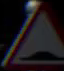Speed Breaker ahead: (5, 11, 58, 61)
